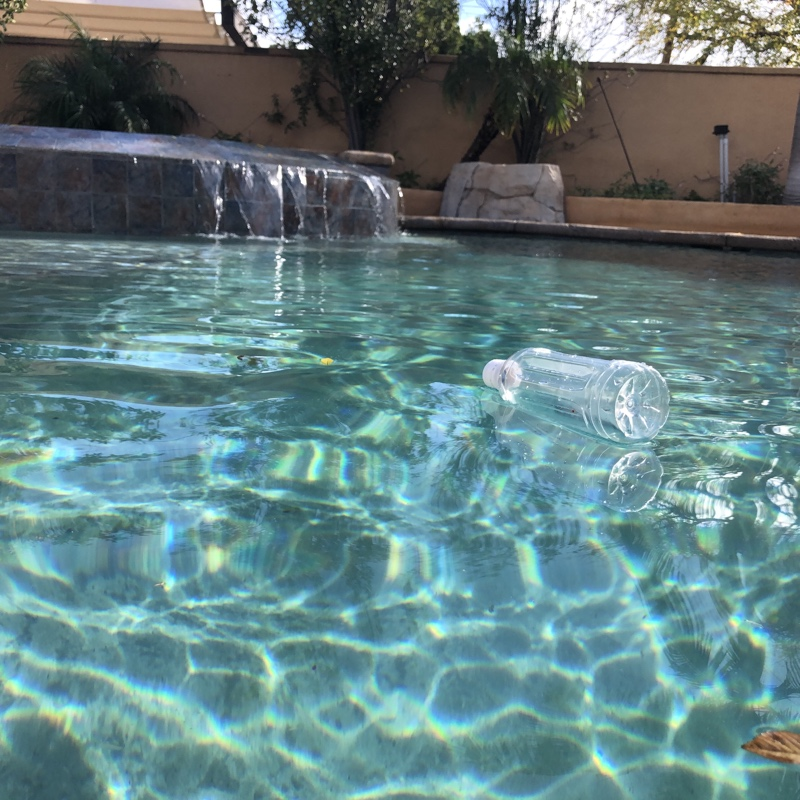Plastic Bottle: (474, 341, 677, 450)
